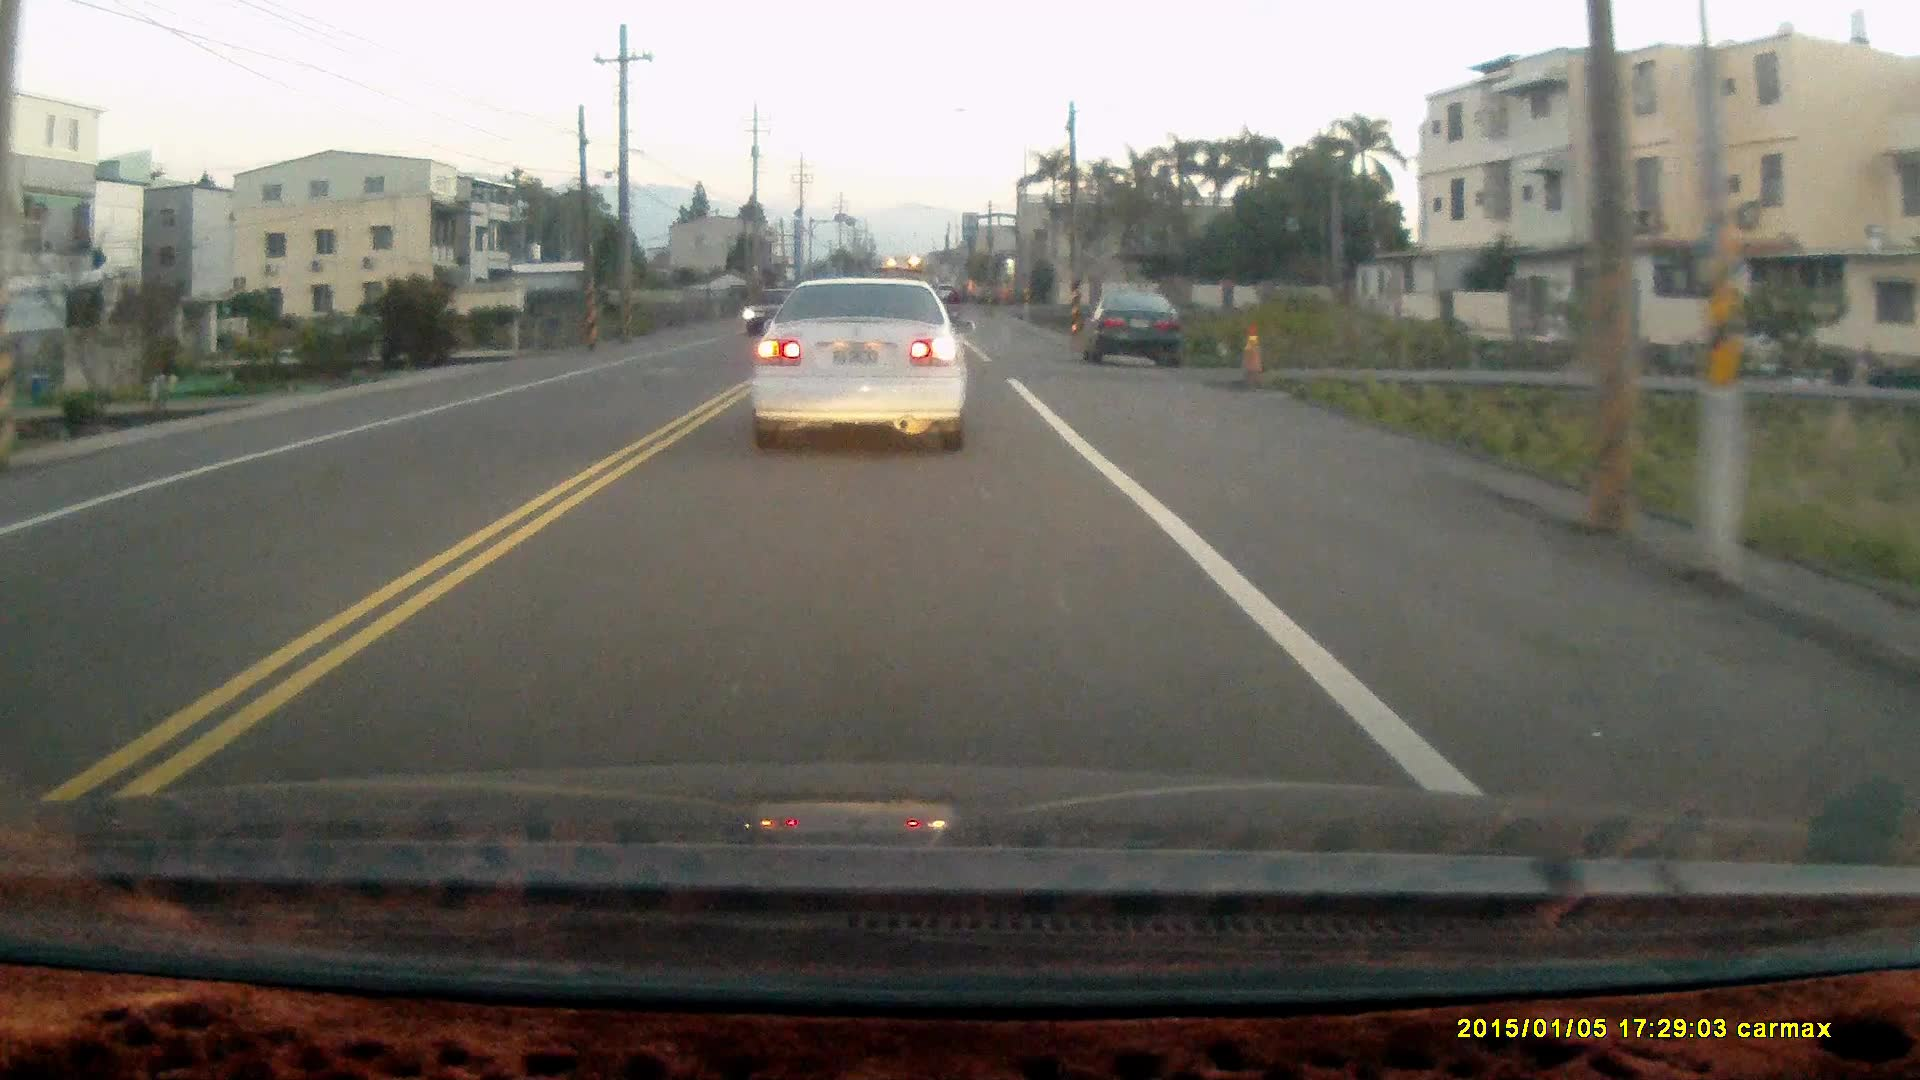vehicle: (749, 276, 969, 458), (1083, 291, 1182, 367), (742, 287, 802, 339)
